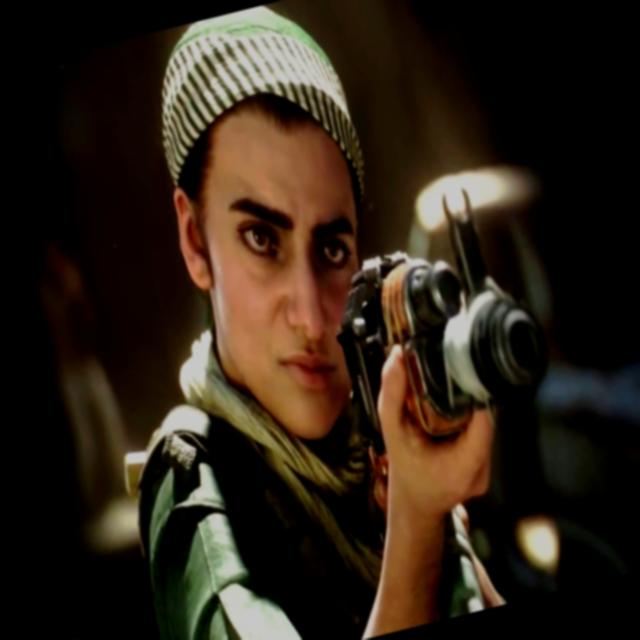ak: (298, 156, 582, 541)
